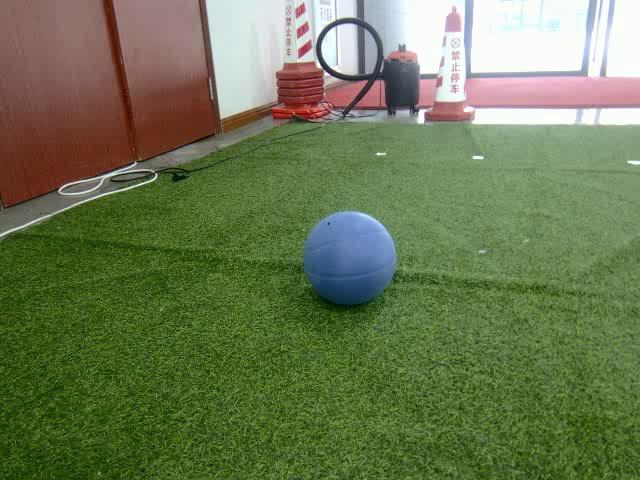blue_ball: (304, 212, 397, 308)
